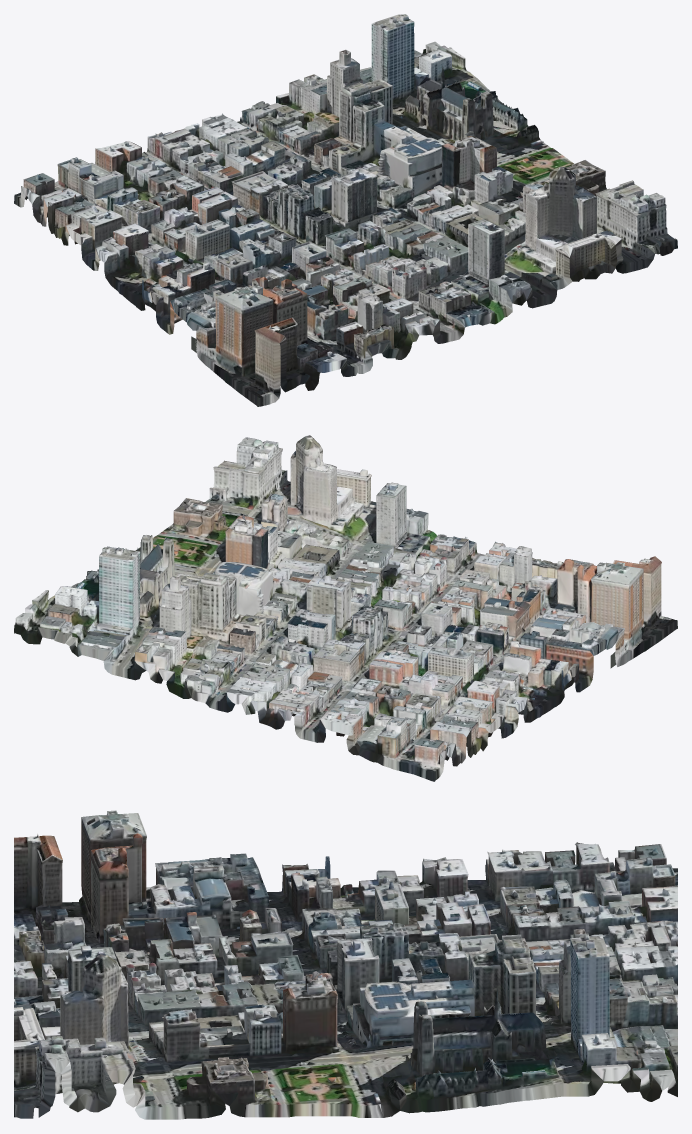
The model's file is z16-10483-25327-h0-yup-uvflip-v3-world.glb.
3 renders of one model, top to bottom at view 1: azimuth 30°, elevation 25°; view 2: azimuth 150°, elevation 25°; view 3: azimuth 270°, elevation 25°, orthographic. The views are drawn at different scales.
Bounding box in the file's own units: 484 × 164 × 485.
Materials: 1 (1 with a texture image).
